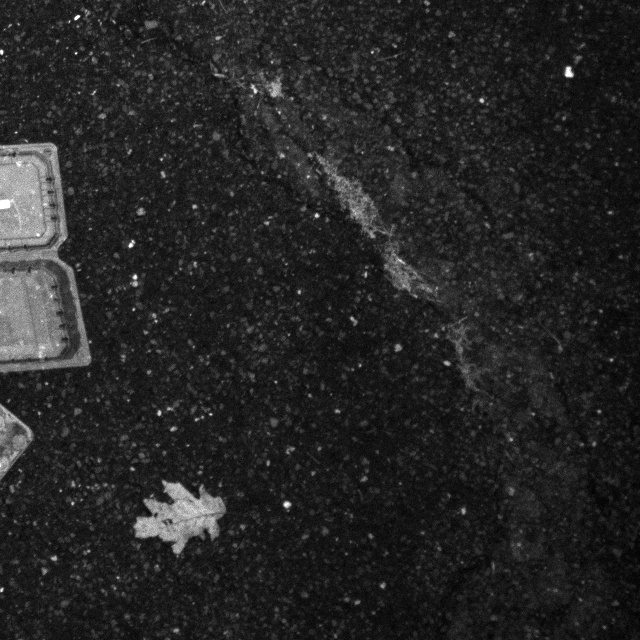container: (0, 129, 98, 382)
